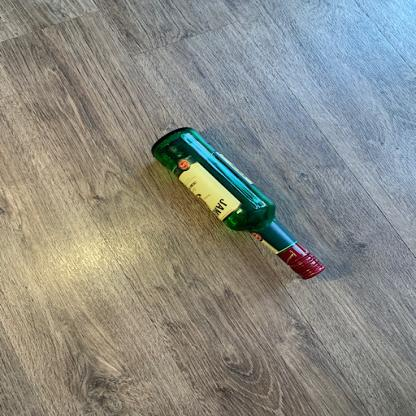trash: (148, 128, 329, 286)
